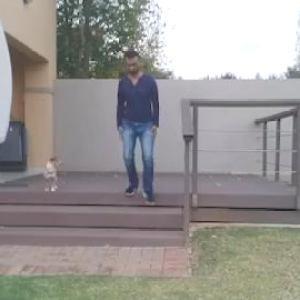follow: (122, 48, 162, 206)
